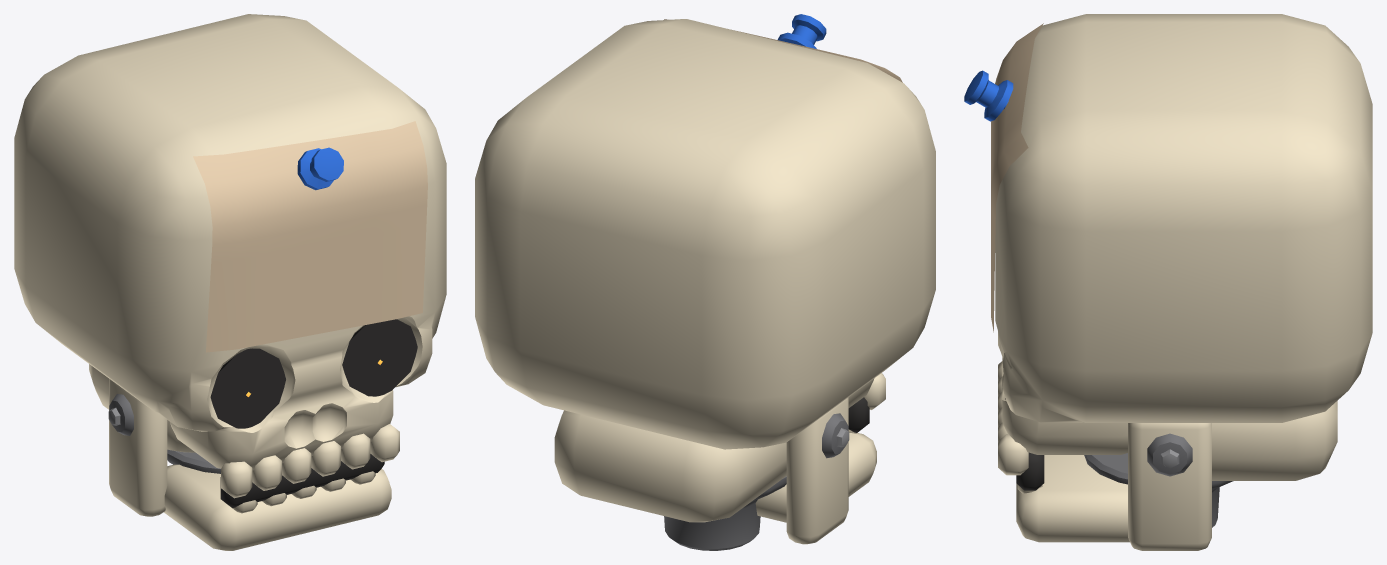
File: Kit_Head_Skull.glb
The picture shows the model from 3 angles, left to right: view 1: azimuth 30°, elevation 25°; view 2: azimuth 150°, elevation 25°; view 3: azimuth 270°, elevation 25°; orthographic projection. The views are drawn at different scales.
Visible parts, largest first — view 1: Kit_Head_Skull, FacePlate; view 2: Kit_Head_Skull; view 3: Kit_Head_Skull, FacePlate.
Boxes of the visible parts, left/top/right/bottom form: Kit_Head_Skull: left=14, top=14, right=446, bottom=550; FacePlate: left=193, top=121, right=427, bottom=352; Kit_Head_Skull: left=475, top=14, right=935, bottom=550; Kit_Head_Skull: left=964, top=14, right=1372, bottom=550; FacePlate: left=991, top=23, right=1043, bottom=332.
Size of the model in its own units: 0.28 by 0.36 by 0.2922.
